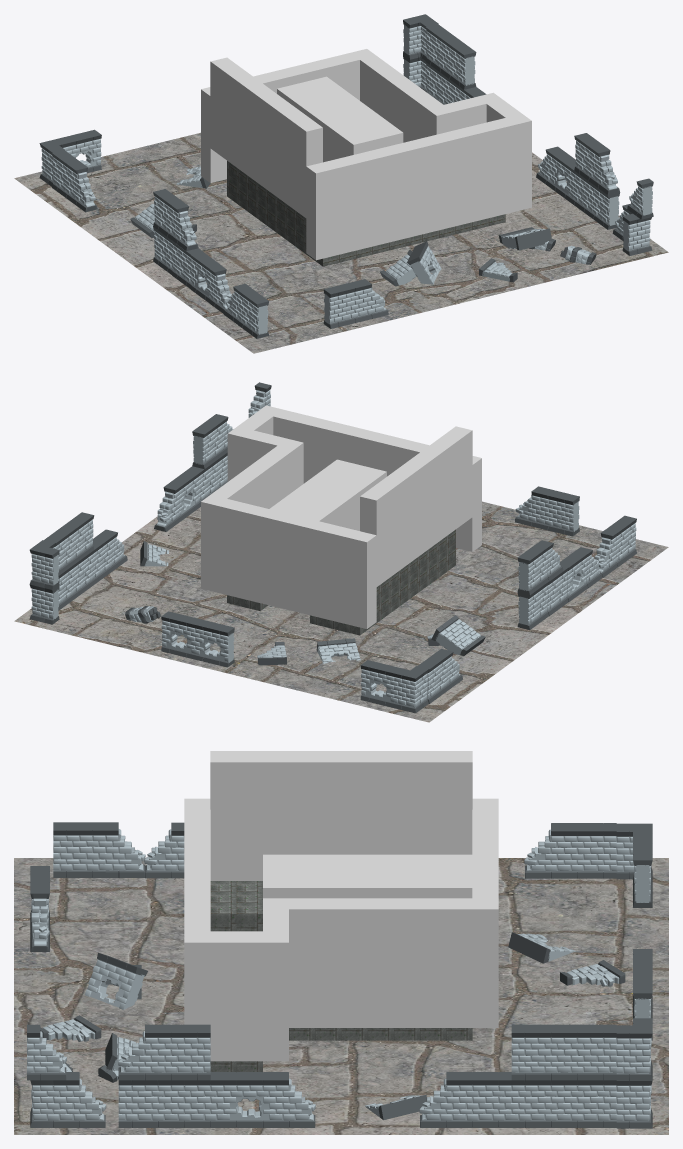
The model's file is Stage.gltf.
3 views of the same model, one above another, from view 1: azimuth 30°, elevation 25°; view 2: azimuth 150°, elevation 25°; view 3: azimuth 270°, elevation 25° (orthographic). The views are drawn at different scales.
Parts seen in each view (by area): view 1: 仮地面, 透明壁.005, 透明壁.002, 透明壁, 透明壁.001, 透明壁.004, 透明壁.006, 壁.014, 壁.006, 壁.013, 壁四隅.001, 壁四隅 (+25 smaller); view 2: 仮地面, 透明壁.004, 透明壁.002, 透明壁.005, 透明壁.001, 透明壁, 壁.014, 透明壁.006, 壊れた壁.013, 壁四隅.003, 壊れた壁.012, 壊れた壁.006 (+24 smaller); view 3: 仮地面, 透明壁.002, 透明壁.001, 透明壁.006, 透明壁, 透明壁.005, 壁.013, 壁.007, 壁.008, 壁.006, 壁.010, 壁.011 (+30 smaller).
Part boxes in pixels (x1=…): 仮地面: x1=14, y1=132, x2=668, y2=353; 透明壁.005: x1=306, y1=118, x2=515, y2=260; 透明壁.002: x1=210, y1=57, x2=322, y2=217; 透明壁: x1=277, y1=76, x2=403, y2=162; 透明壁.001: x1=350, y1=49, x2=453, y2=142; 透明壁.004: x1=201, y1=53, x2=359, y2=182; 透明壁.006: x1=477, y1=92, x2=531, y2=211; 壁.014: x1=323, y1=281, x2=363, y2=328; 壁.006: x1=237, y1=287, x2=269, y2=338; 壁.013: x1=445, y1=38, x2=476, y2=89; 壁四隅.001: x1=403, y1=14, x2=438, y2=60; 壁四隅: x1=622, y1=209, x2=652, y2=255; 仮地面: x1=14, y1=501, x2=668, y2=722; 透明壁.004: x1=217, y1=499, x2=376, y2=628; 透明壁.002: x1=360, y1=426, x2=472, y2=586; 透明壁.005: x1=273, y1=409, x2=481, y2=551; 透明壁.001: x1=201, y1=438, x2=303, y2=592; 透明壁: x1=269, y1=459, x2=386, y2=530; 壁.014: x1=539, y1=488, x2=579, y2=536; 透明壁.006: x1=227, y1=405, x2=282, y2=481; 壊れた壁.013: x1=194, y1=619, x2=234, y2=667; 壁四隅.003: x1=393, y1=666, x2=428, y2=713; 壊れた壁.012: x1=161, y1=611, x2=201, y2=659; 壊れた壁.006: x1=360, y1=660, x2=400, y2=707; 仮地面: x1=14, y1=858, x2=668, y2=1134; 透明壁.002: x1=210, y1=751, x2=472, y2=880; 透明壁.001: x1=263, y1=898, x2=498, y2=1027; 透明壁.006: x1=184, y1=931, x2=288, y2=1061; 透明壁: x1=263, y1=854, x2=472, y2=898; 透明壁.005: x1=184, y1=798, x2=210, y2=931; 壁.013: x1=511, y1=1024, x2=564, y2=1080; 壁.007: x1=158, y1=1024, x2=210, y2=1080; 壁.008: x1=564, y1=1024, x2=616, y2=1080; 壁.006: x1=53, y1=822, x2=105, y2=877; 壁.010: x1=564, y1=823, x2=616, y2=878; 壁.011: x1=459, y1=1072, x2=511, y2=1127.
Size of the model in its own units: 50 by 17.81 by 50.
Materials: 7 (2 with a texture image).
